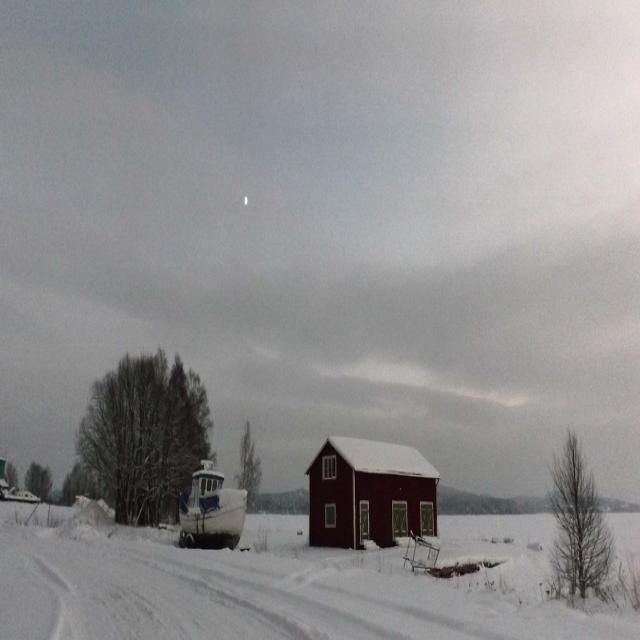Boat: (171, 459, 246, 536), (0, 460, 42, 524)
